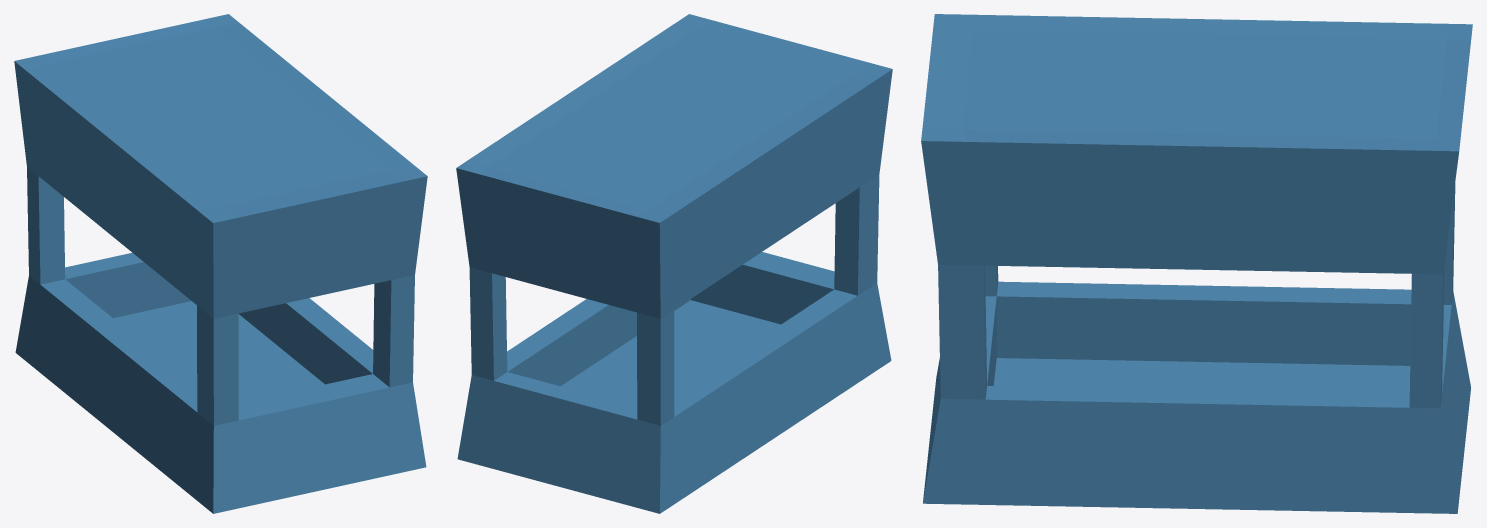
File: stall2.fbx
The picture shows the model from 3 angles, left to right: view 1: azimuth 30°, elevation 25°; view 2: azimuth 150°, elevation 25°; view 3: azimuth 270°, elevation 25°; orthographic projection. The views are drawn at different scales.
Parts seen in each view (by area): view 1: stand1; view 2: stand1; view 3: stand1.
Part boxes in pixels (left/top/right/bottom): stand1: left=14, top=14, right=427, bottom=513; stand1: left=456, top=14, right=892, bottom=513; stand1: left=921, top=14, right=1472, bottom=513.
Size of the model in its own units: 10.34 by 12.74 by 17.55.
